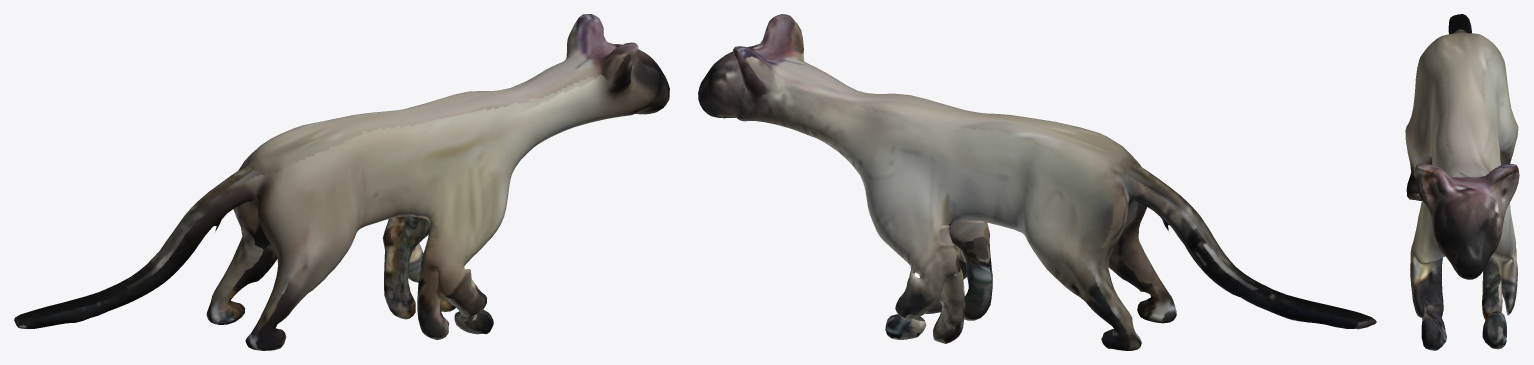
The model's file is walking_siamese_cat_textured_frame_000000.glb.
3 views of the same model, side by side, from view 1: azimuth 30°, elevation 25°; view 2: azimuth 150°, elevation 25°; view 3: azimuth 270°, elevation 25° (orthographic).
Parts seen in each view (by area): view 1: geometry_0; view 2: geometry_0; view 3: geometry_0.
Boxes of the visible parts, <box> form: geometry_0: <box>14,14,669,350</box>; geometry_0: <box>698,14,1376,350</box>; geometry_0: <box>1405,14,1519,350</box>.
Size of the model in its own units: 0.6227 by 0.2311 by 0.0933.
1 material, 1 textured.
